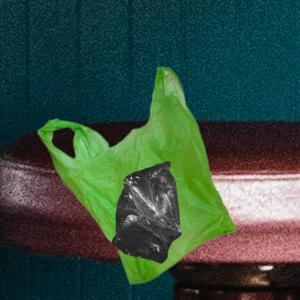plastic_bag: (34, 62, 242, 285), (106, 161, 182, 266)
